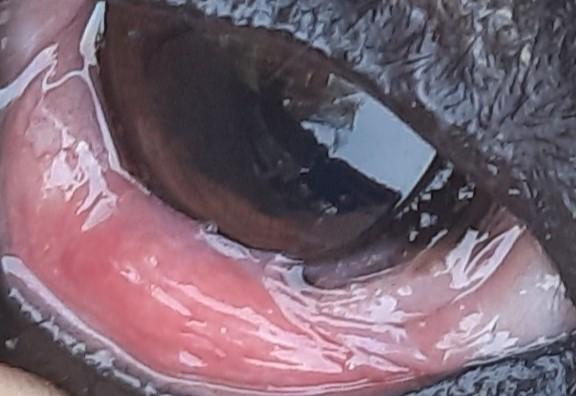eye_membrane: (0, 2, 576, 394)
